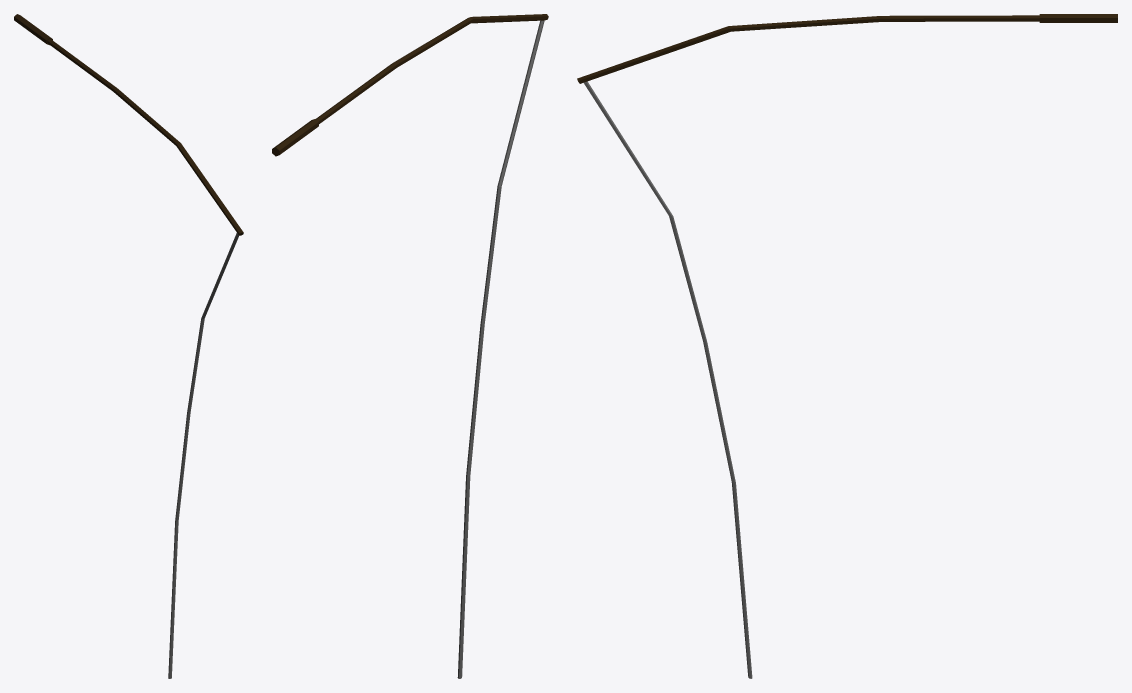
File: Fishing_rod.fbx
The picture shows the model from 3 angles, left to right: view 1: azimuth 30°, elevation 25°; view 2: azimuth 150°, elevation 25°; view 3: azimuth 270°, elevation 25°; orthographic projection. The views are drawn at different scales.
Visible parts, largest first — view 1: Cylinder.004; view 2: Cylinder.004; view 3: Cylinder.004.
Boxes of the visible parts, box(x1,y1,x2,y2) form: Cylinder.004: box(14, 14, 243, 678); Cylinder.004: box(272, 14, 548, 678); Cylinder.004: box(577, 14, 1117, 678).
Size of the model in its own units: 3.33 by 285 by 210.
Materials: 1 (1 with a texture image).
